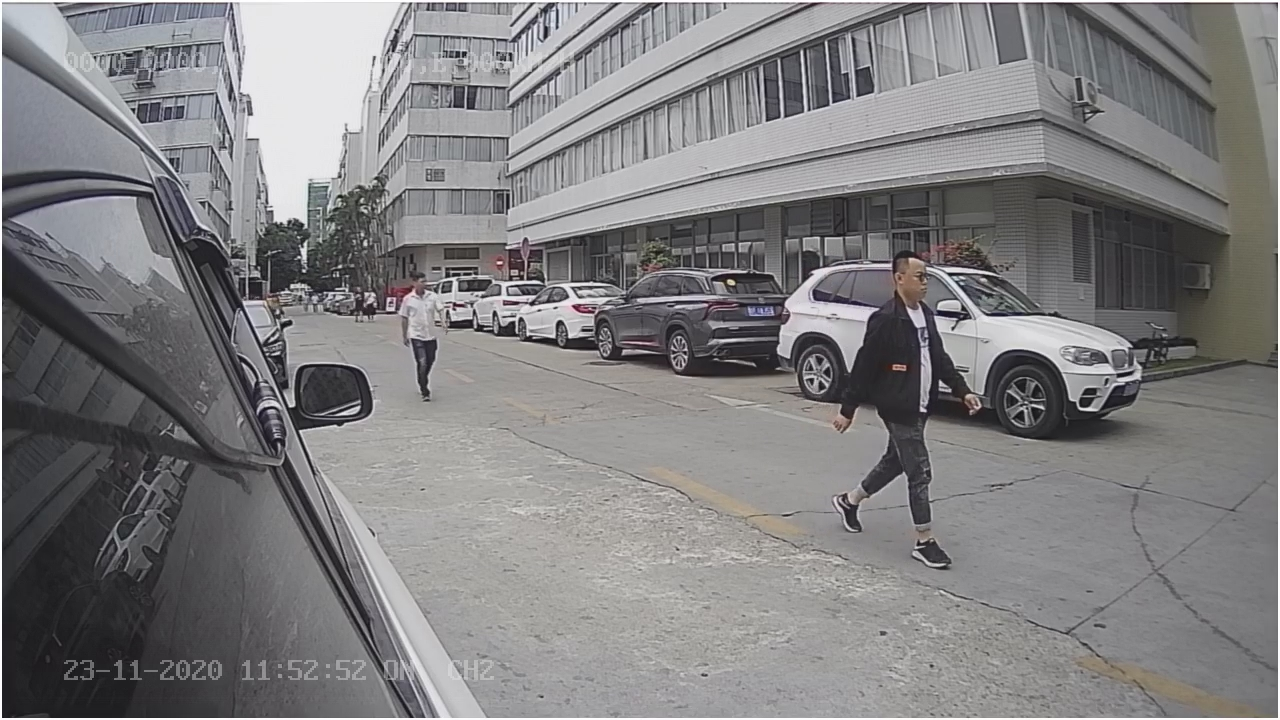person: (834, 248, 976, 574)
